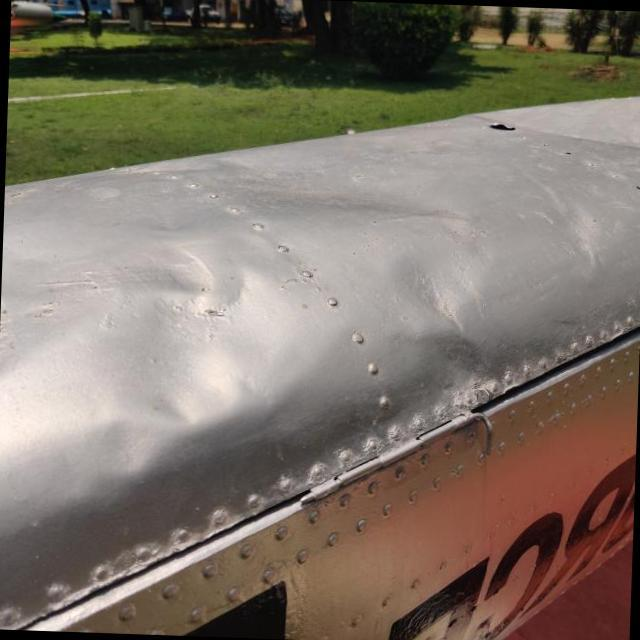Dent: (84, 229, 308, 456), (378, 238, 483, 356), (64, 404, 168, 506)
